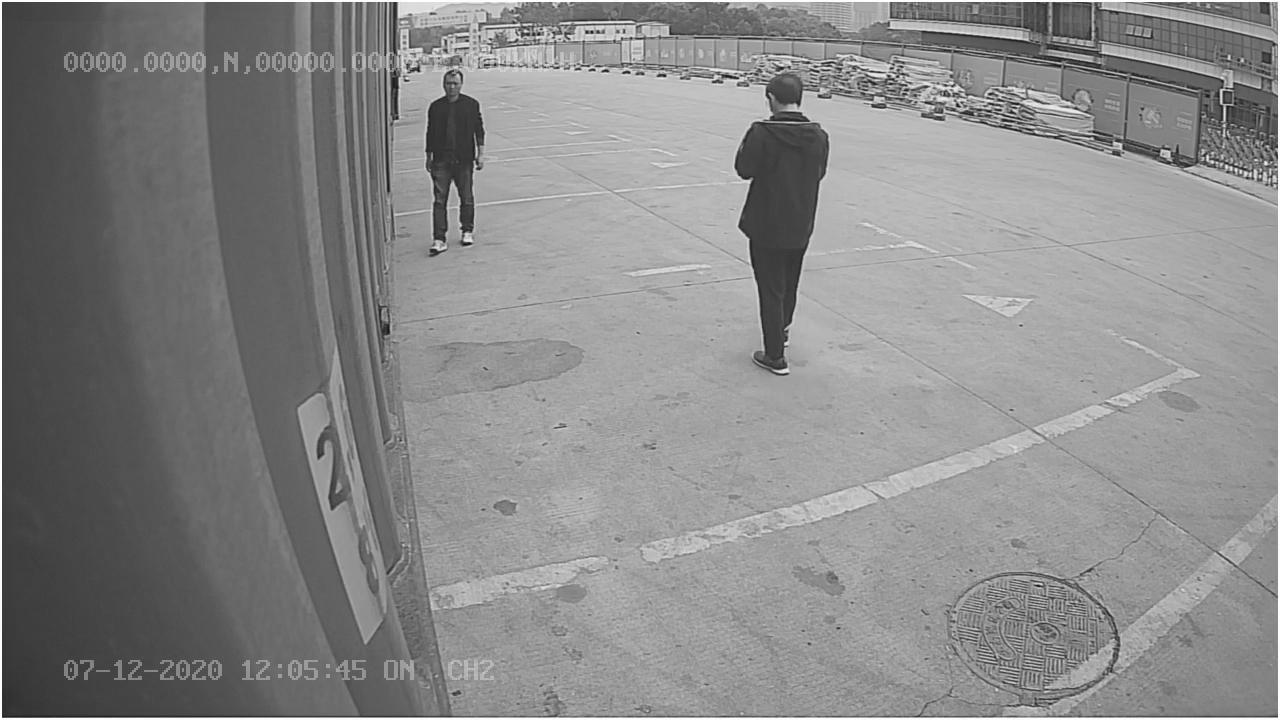person: (734, 71, 836, 375)
